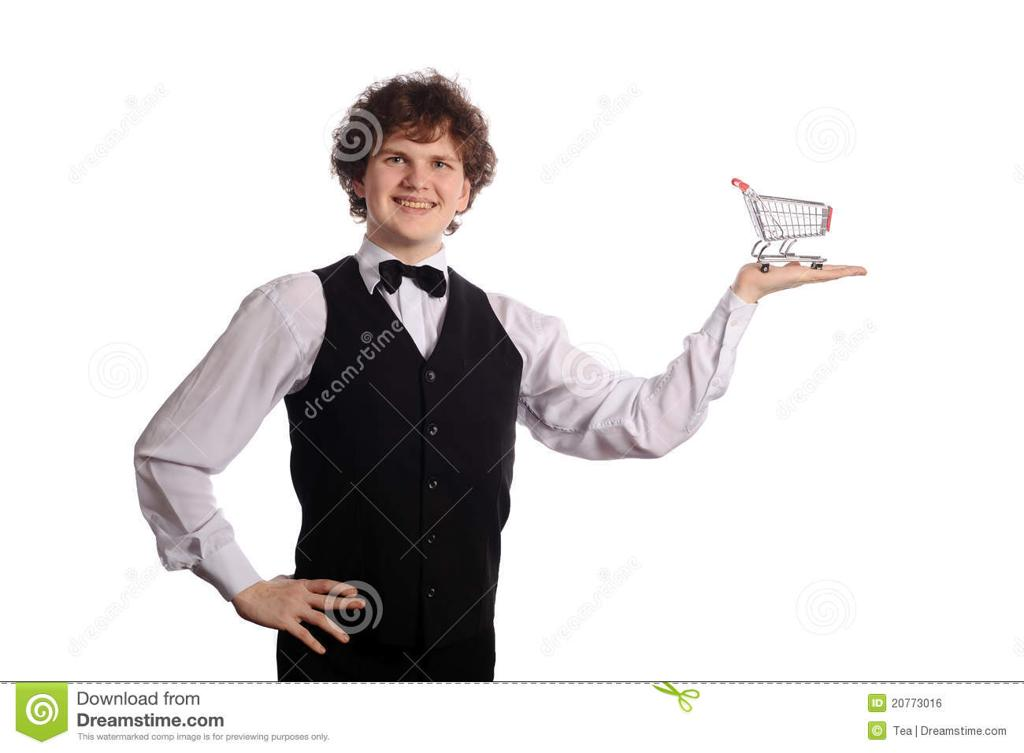face: (364, 110, 468, 238)
